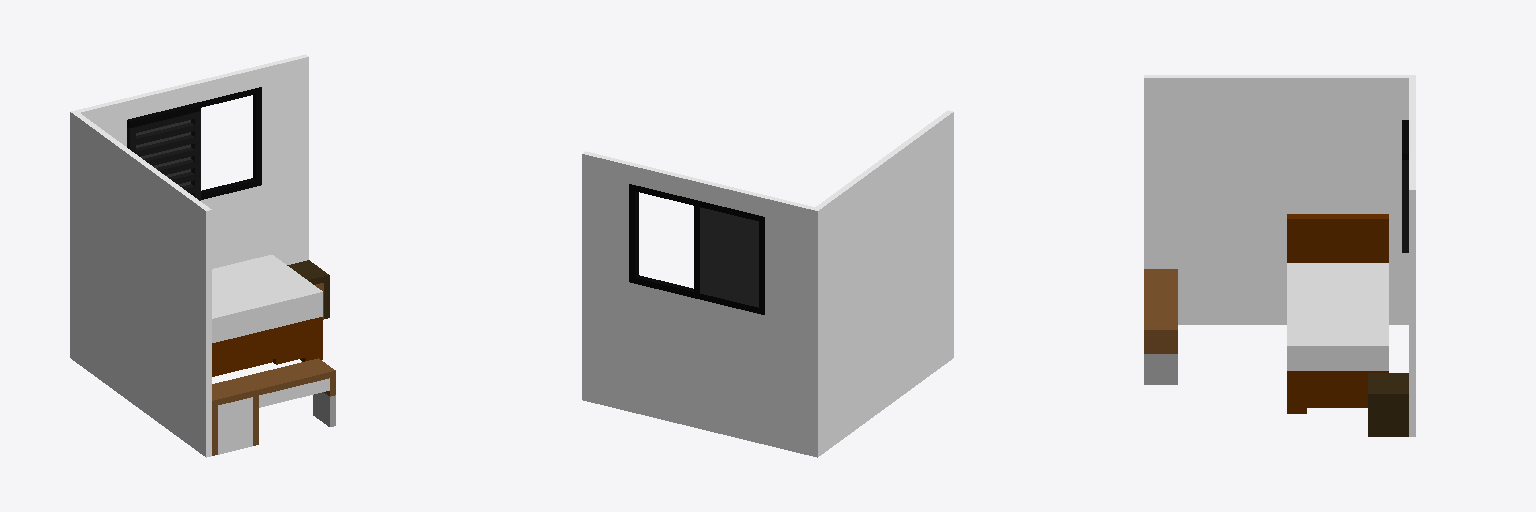
3 renders of one model, left to right at view 1: azimuth 30°, elevation 25°; view 2: azimuth 150°, elevation 25°; view 3: azimuth 270°, elevation 25°, orthographic.
Parts seen in each view (by area): view 1: object 1; view 2: object 1; view 3: object 1.
Part boxes in pixels (x1,y1,x2,y2): object 1: (70,54,335,457); object 1: (582,110,953,457); object 1: (1144,75,1415,436).
Size of the model in its own units: 4 by 4 by 4.
1 materials, 1 textured.